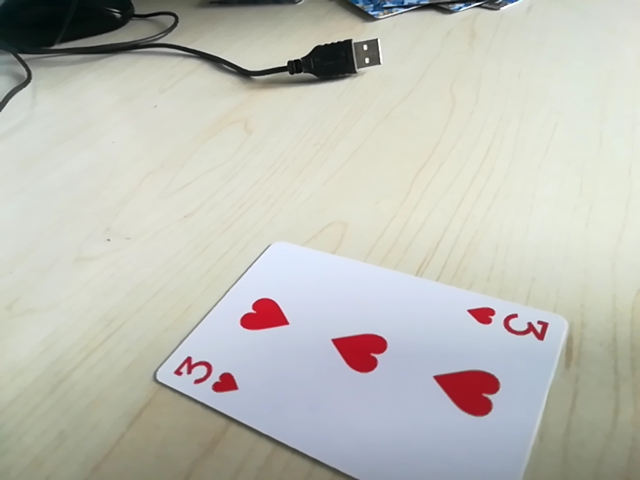hx 3: (464, 302, 554, 345), (164, 353, 243, 399)
